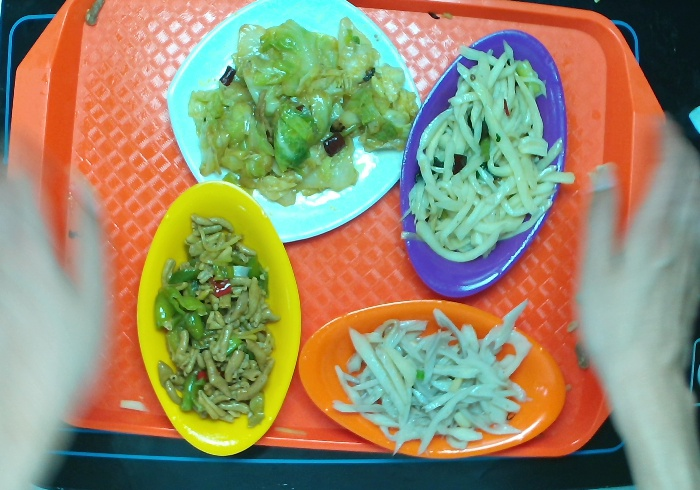RJxy-Fen_Hong_Tuo_Yuan: (390, 32, 567, 297)
RJxy-Huang_Se_Tuo_Yuan: (139, 170, 298, 464)
RJxy-Ju_Huang_Tuo_Yuan: (298, 300, 585, 458)
RJxy-Si_Fang_Die: (161, 1, 419, 250)
